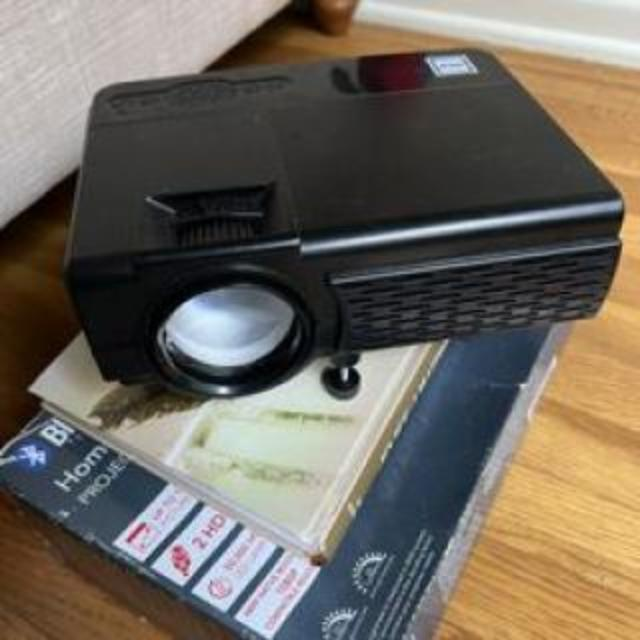Projector: (68, 44, 624, 400)
